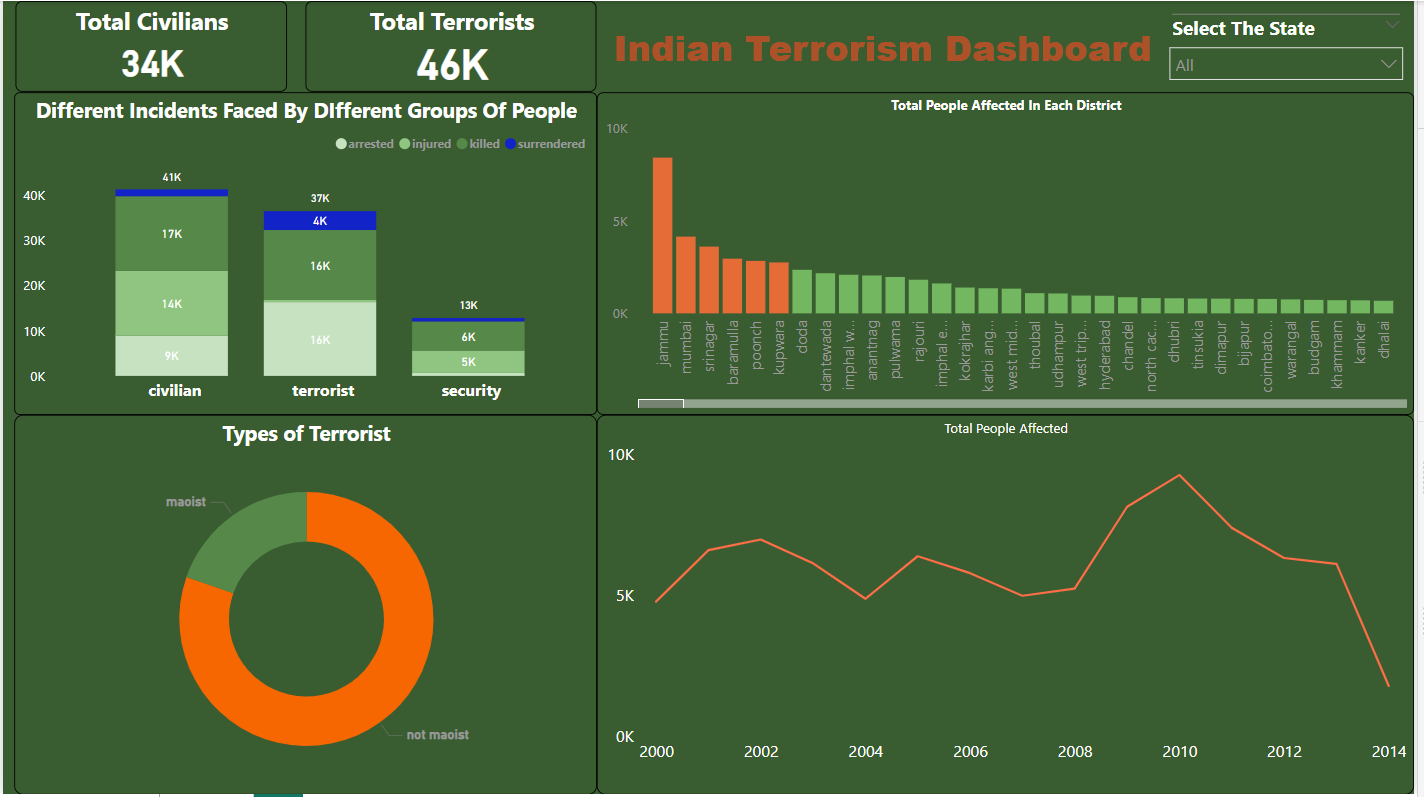

The page's visual inventory and layout, read from the dashboard file:
{"tool":"powerbi","page":{"name":"Page 1","canvas":[1280,720],"ordinal":0},"visuals":[{"type":"textbox","box":[549,14.7,556.9,62.4],"z":0},{"type":"lineChart","title":"Total People Affected","fields":{"Y":["Sum(my_data.total_number_of_people)"],"Category":["my_data.Date.Variation.Date Hierarchy.Year"]},"box":[538.8,375.4,741.8,344.8],"z":1000},{"type":"donutChart","title":"Types of Terrorist","fields":{"Category":["my_data.svmlabel2"],"Y":["Sum(my_data.militants_terrorists_insurgents)"]},"box":[10.2,375.4,528.5,344.8],"z":2000},{"type":"columnChart","title":"Different Incidents Faced By DIfferent Groups Of People","fields":{"Category":["my_data.svmlabel1"],"Series":["my_data.verb"],"Y":["Sum(my_data.total_number_of_people)"]},"box":[10.2,82.8,528.5,292.6],"z":3000},{"type":"lineClusteredColumnComboChart","title":"Total People Affected In Each District","fields":{"Category":["my_data.districtmatch"],"Y":["Sum(my_data.total_number_of_people)"]},"box":[538.8,82.8,741.8,292.6],"z":4000},{"type":"card","title":"Total Civilians","fields":{"Values":["Sum(my_data.civilians)"]},"box":[11.3,0,246.1,82.8],"z":5000},{"type":"card","title":"Total Terrorists","fields":{"Values":["Sum(my_data.militants_terrorists_insurgents)"]},"box":[274.5,0,264.3,82.8],"z":6000},{"type":"slicer","fields":{"Values":["my_data.state_full"]},"box":[1048,6.8,232.5,70.3],"z":8000}]}

Visuals, with their boxes in screenshot pixels (x1, y1, x2, y2), scaled from the page's 1280x720 canvas onto the 1424x797 screenshot:
textbox: 611,16,1230,85
"Total People Affected" lineChart: 599,416,1423,796
"Types of Terrorist" donutChart: 11,416,599,796
"Different Incidents Faced By DIfferent Groups Of People" columnChart: 11,92,599,416
"Total People Affected In Each District" lineClusteredColumnComboChart: 599,92,1423,416
"Total Civilians" card: 13,0,286,92
"Total Terrorists" card: 305,0,599,92
slicer - my_data.state_full: 1166,8,1423,85
